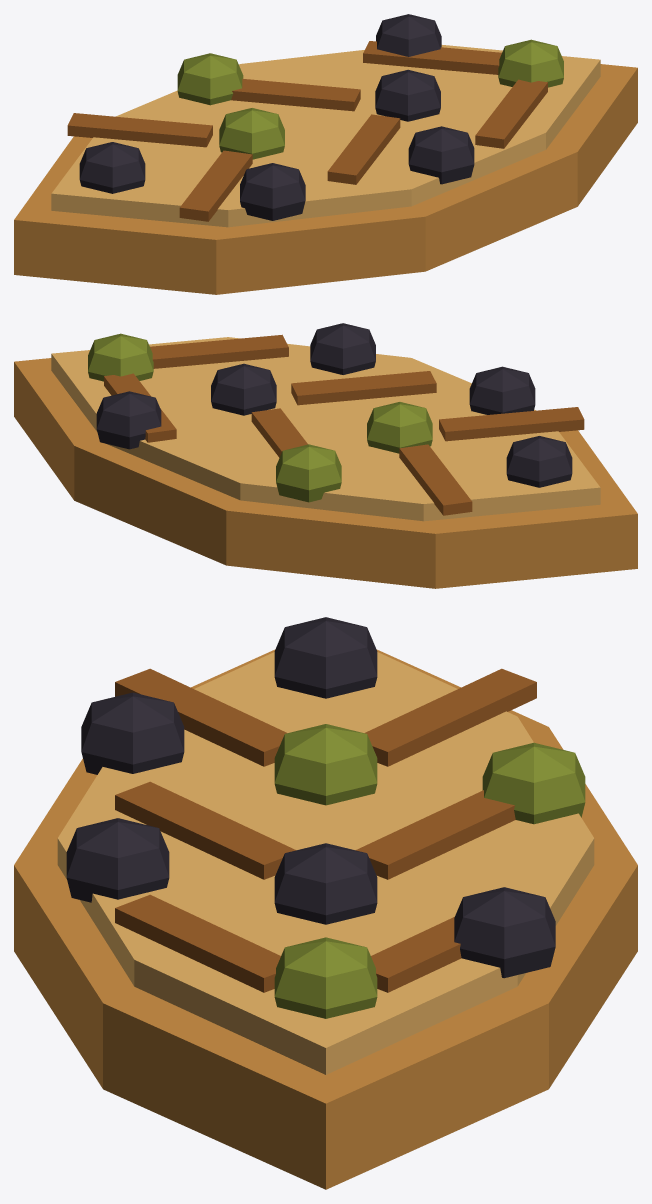
The model's file is fougasse.glb.
3 renders of one model, top to bottom at view 1: azimuth 30°, elevation 25°; view 2: azimuth 150°, elevation 25°; view 3: azimuth 270°, elevation 25°, orthographic. The views are drawn at different scales.
Parts seen in each view (by area): view 1: fougasse; view 2: fougasse; view 3: fougasse.
Boxes of the visible parts, x1,y1,x2,y2 form: fougasse: (14, 14, 637, 294); fougasse: (14, 323, 637, 588); fougasse: (14, 617, 637, 1189).
Bounding box in the file's own units: 0.38 × 0.062 × 0.21.
1 material, 1 textured.
